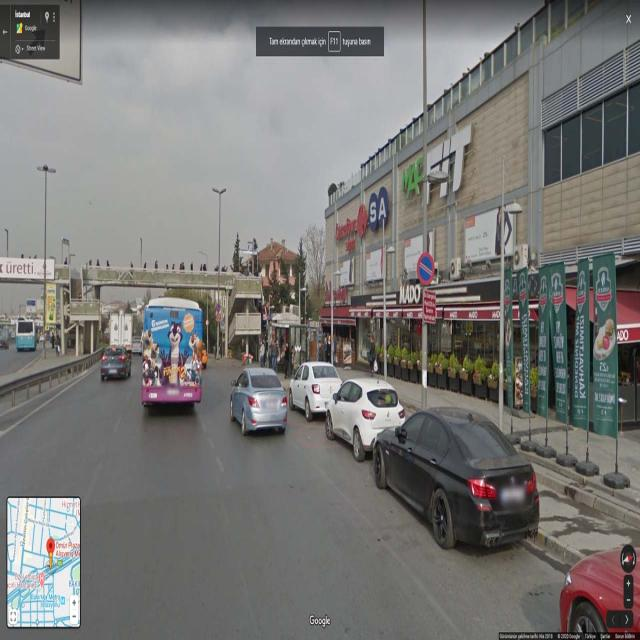parkyasak: (416, 250, 436, 283)
